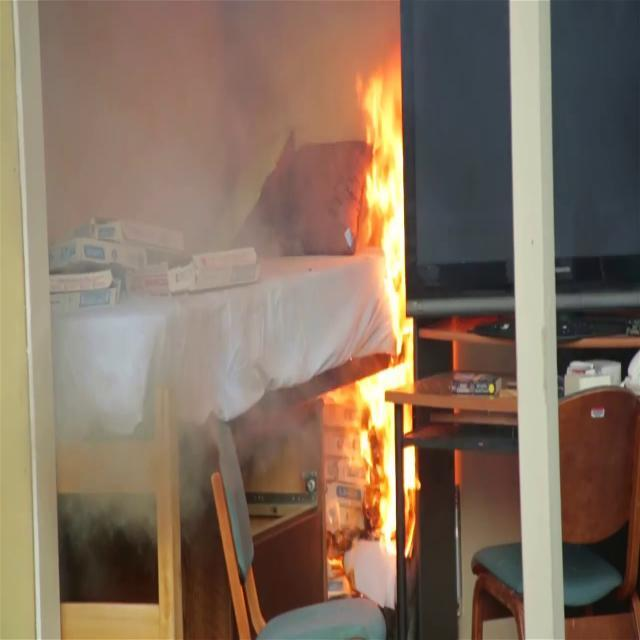Fire: (344, 46, 422, 554)
